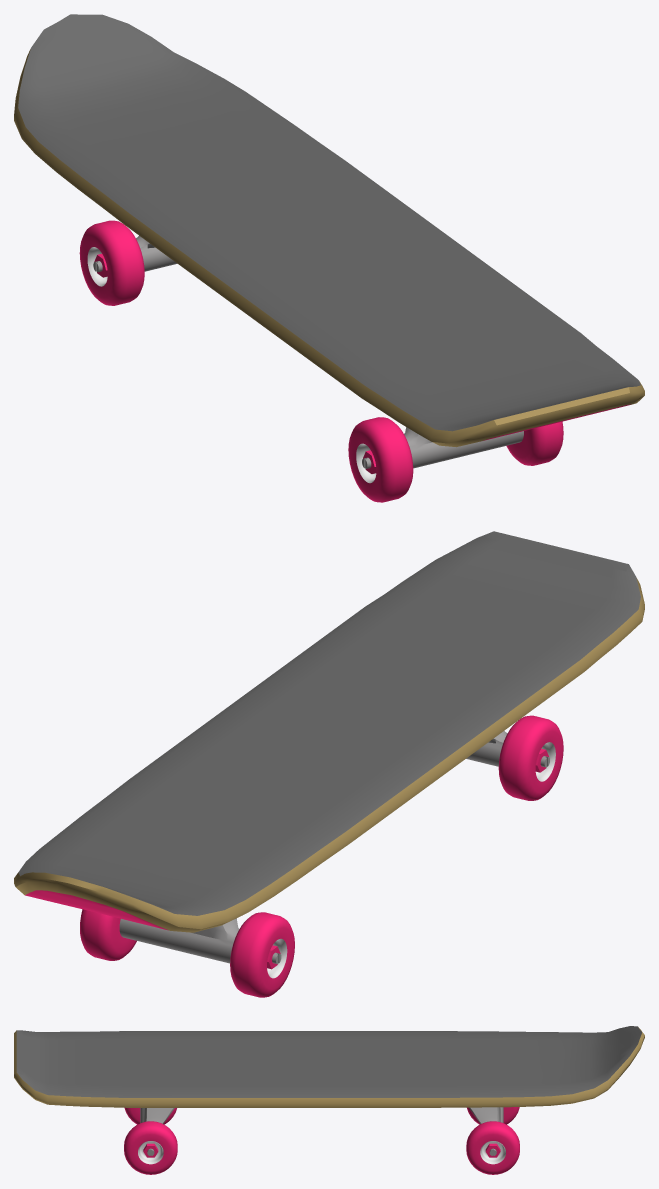
Rendered from Skins_Skate.fbx.
The picture shows the model from 3 angles, top to bottom: view 1: azimuth 30°, elevation 25°; view 2: azimuth 150°, elevation 25°; view 3: azimuth 270°, elevation 25°; orthographic projection. The views are drawn at different scales.
Parts seen in each view (by area): view 1: Skate playa; view 2: Skate playa; view 3: Skate playa.
Part boxes in pixels (bbox=[...]): Skate playa: bbox=[14, 14, 644, 502]; Skate playa: bbox=[14, 531, 644, 997]; Skate playa: bbox=[14, 1026, 644, 1174].
Bounding box in the file's own units: 25.6 × 20.1 × 98.5.
Materials: 1 (1 with a texture image).
